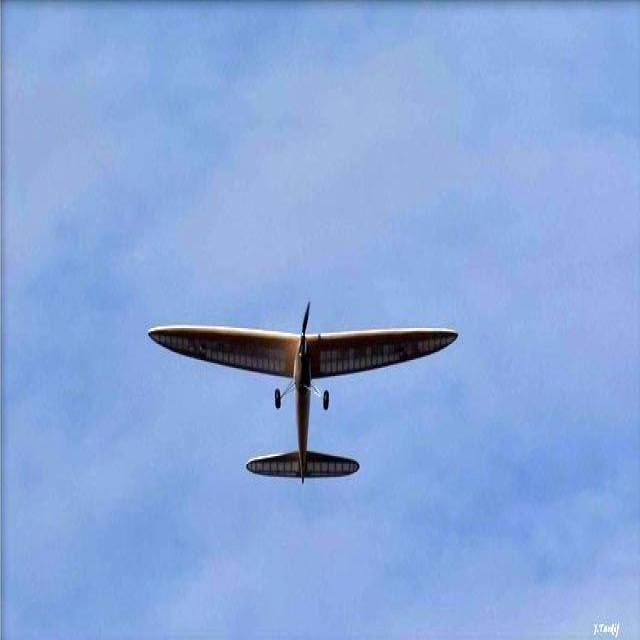iha: (146, 295, 460, 482)
